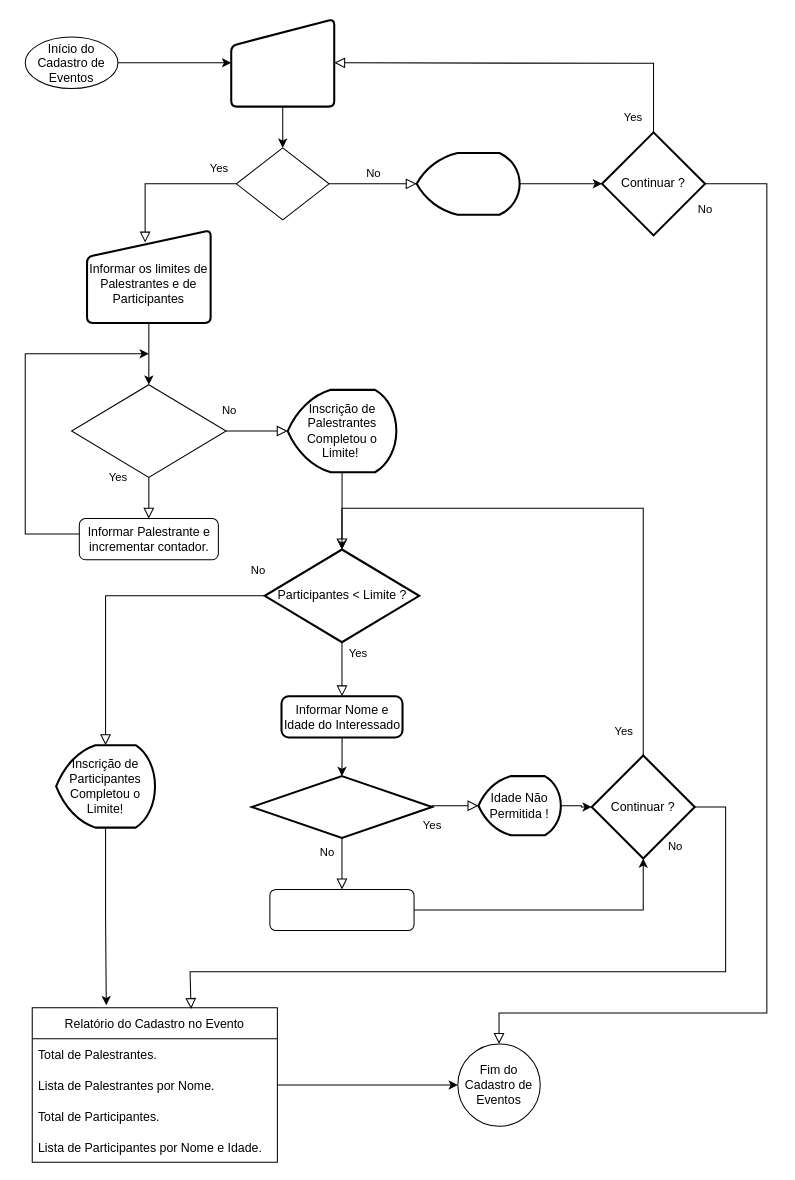
The diagram is 795 pixels wide and 1180 high, and some of its shapes have lost their labels. The shapes that lost their labels are listed below. From the top down, each one's centre as x and y in pixels, then its label:
At point 282,62: "Informar o Título e a Data do Evento".
At point 282,183: "Data é Posterior a atual ?".
At point 467,183: "Data Inválida !".
At point 148,430: "Palestrantes < Limite ?".
At point 341,806: "Interessado <18 anos ?".
At point 341,909: "Inscrever Participante e incrementar contador".
